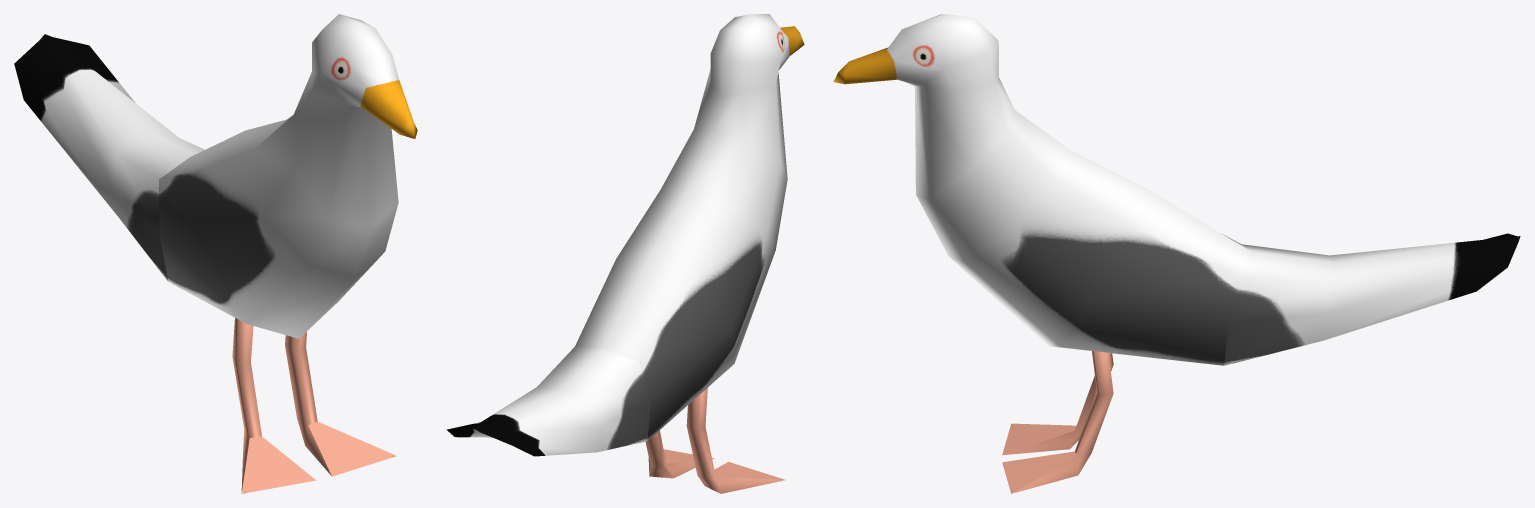
File: pigeon.fbx
3 views of the same model, side by side, from view 1: azimuth 30°, elevation 25°; view 2: azimuth 150°, elevation 25°; view 3: azimuth 270°, elevation 25° (orthographic). The views are drawn at different scales.
Parts seen in each view (by area): view 1: Cube_001; view 2: Cube_001; view 3: Cube_001.
Boxes of the visible parts, bbox=[...] form: Cube_001: bbox=[14, 14, 417, 493]; Cube_001: bbox=[446, 14, 804, 493]; Cube_001: bbox=[833, 14, 1520, 493].
Size of the model in its own units: 1028 by 3028 by 4240.
